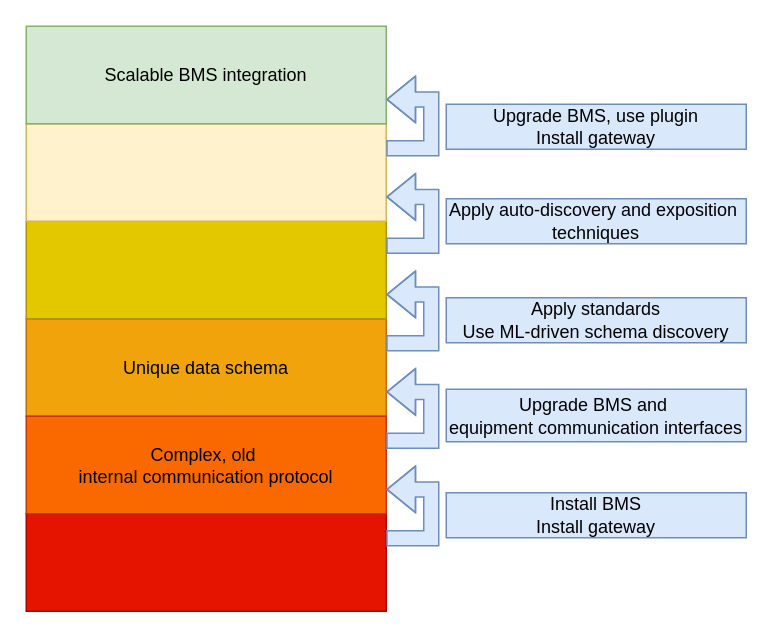
Image size: 773x638. Some labels were removed from this diagram. The shapes that lost their labels are listed below. From the top down, each one's centre as x and y in pixels, then its label:
(205,171): No external interface
(205,269): Undiscoverable, unadressable data points
(205,561): No BMS Equipment not connected
